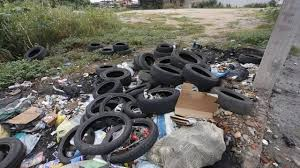tire: (73, 111, 133, 154), (99, 119, 159, 162), (56, 123, 97, 164), (213, 86, 255, 115), (182, 63, 223, 91), (137, 88, 180, 113), (149, 63, 187, 85), (100, 67, 133, 87), (92, 81, 126, 100), (171, 49, 205, 68), (137, 52, 168, 72), (22, 45, 48, 62), (237, 52, 263, 65), (156, 42, 176, 53), (113, 43, 130, 51), (98, 47, 113, 55), (88, 43, 105, 50)
